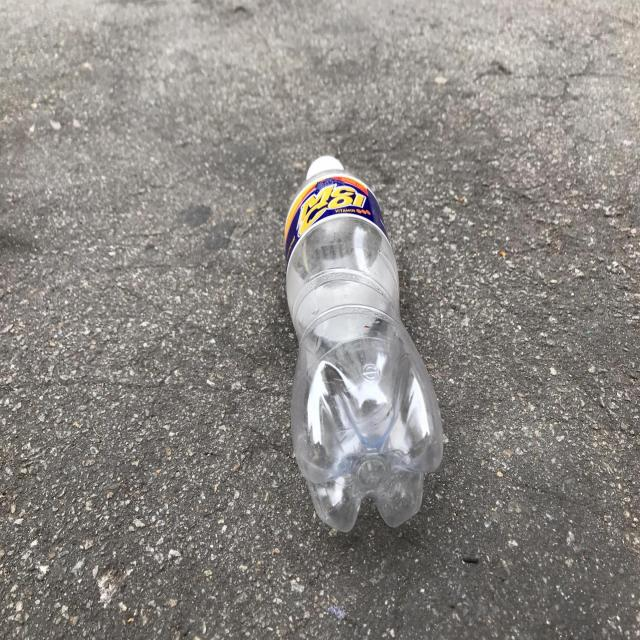plastic: (285, 155, 444, 532)
